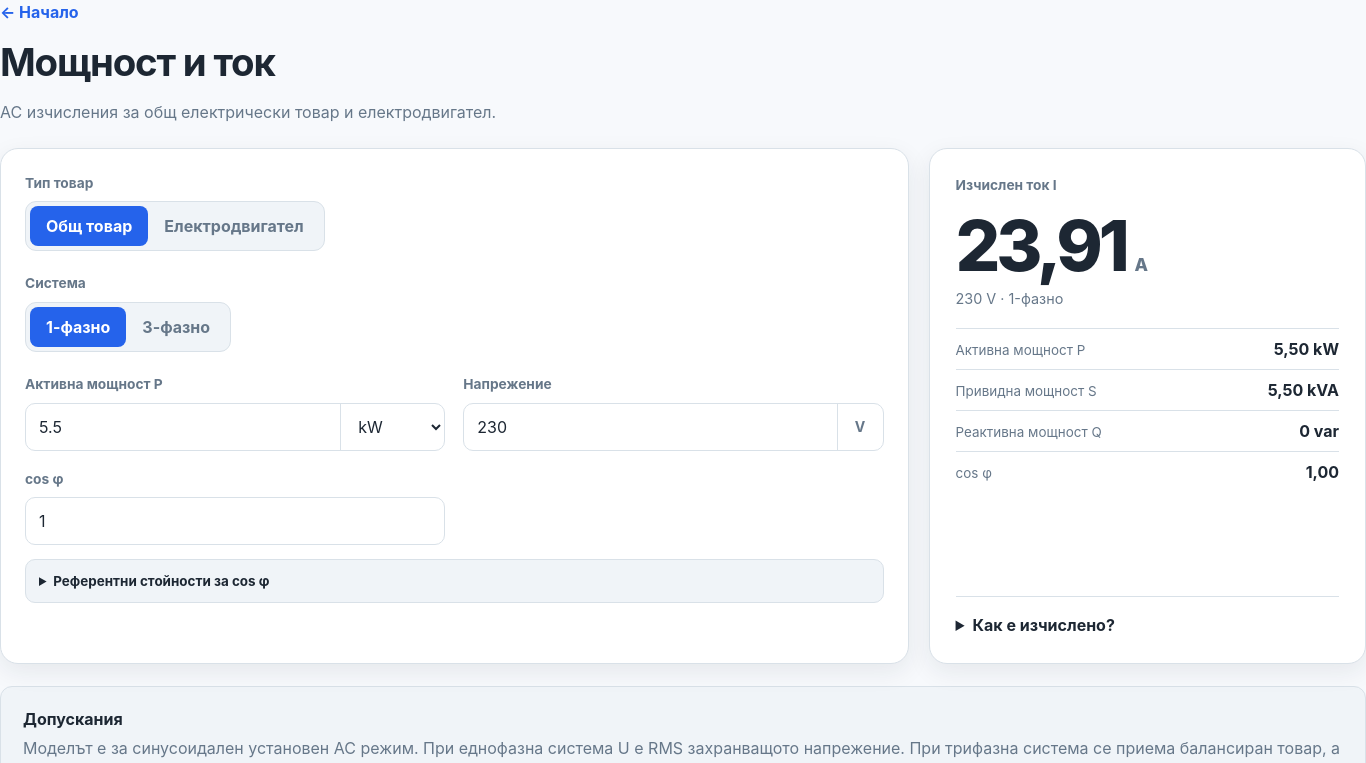
Scenario: PowerCurrentCalculator › shows compact non-normative cos phi guidance without changing the input
The width and height of the screenshot is (1366, 763).
Replace the text in the field labelled "cos φ" with "0.92" at point(235, 521), box [26,498,444,544]
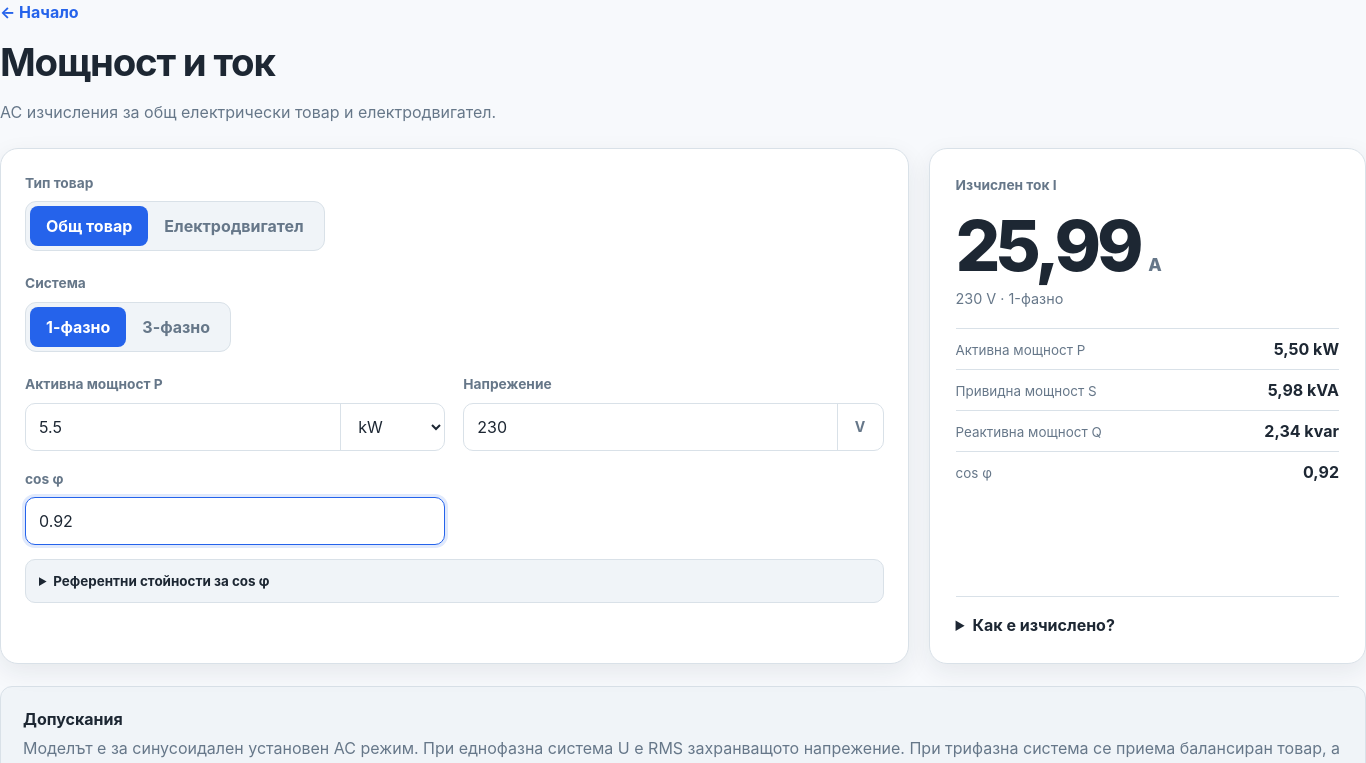
Click the heading "Референтни стойности за cos φ" at point(161, 581), box [53,573,270,589]
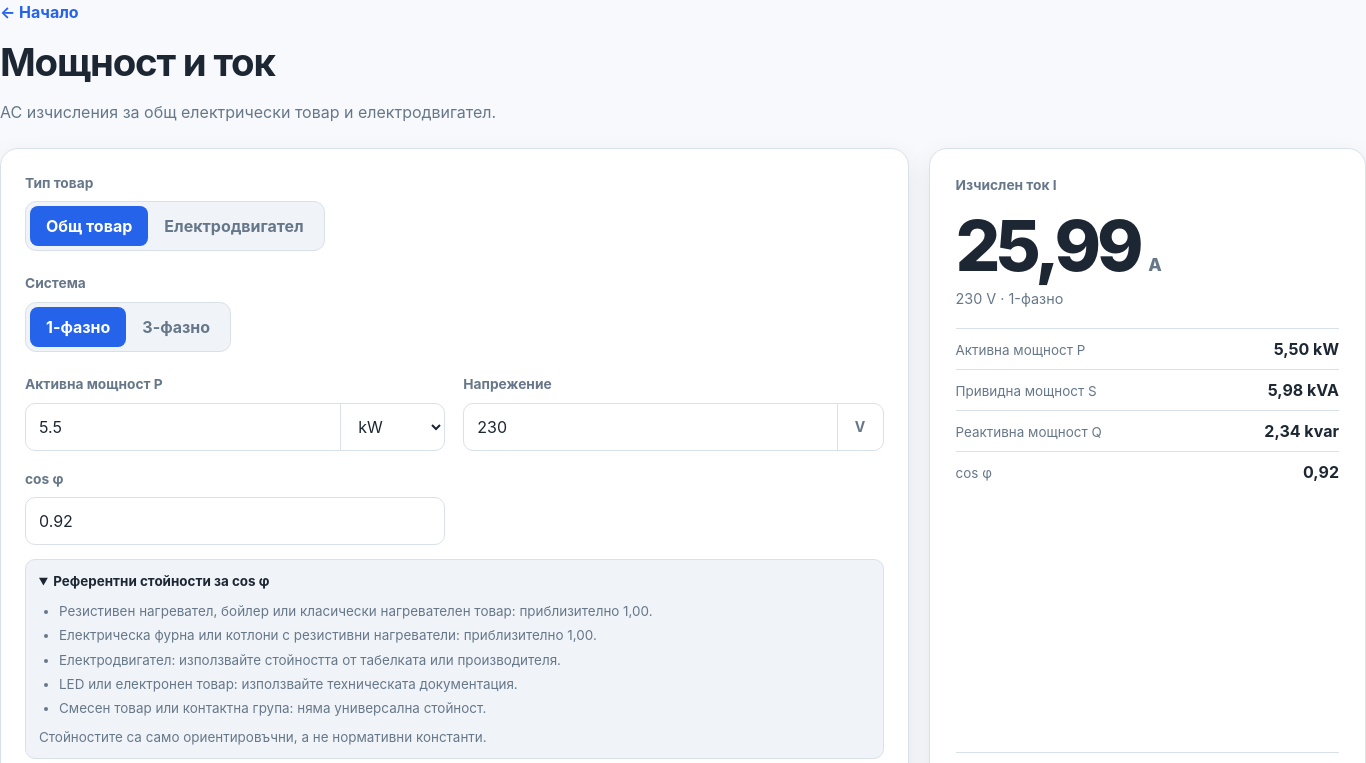
Check: the text "Стойностите са само ориентировъчни, а не нормативни константи." is shown, box [39,729,487,745]
